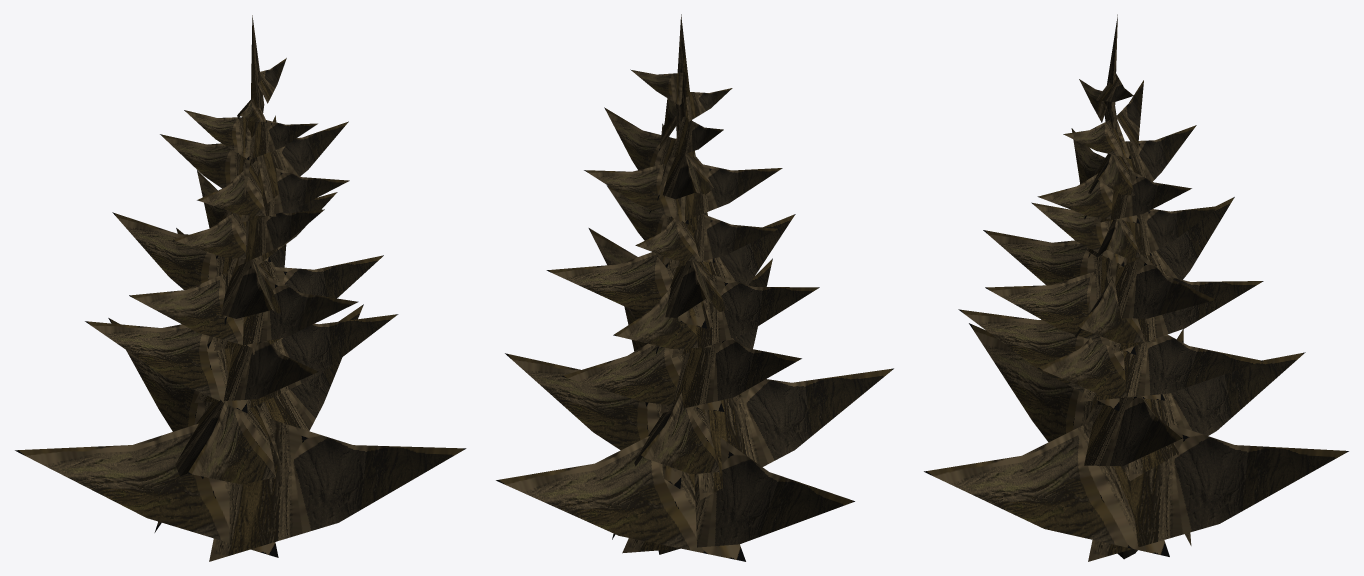
File: snow_snowy_pinetree.glb
3 renders of one model, left to right at view 1: azimuth 30°, elevation 25°; view 2: azimuth 150°, elevation 25°; view 3: azimuth 270°, elevation 25°, orthographic.
Visible parts, largest first — view 1: _MeshInstance3D_18; view 2: _MeshInstance3D_18; view 3: _MeshInstance3D_18.
Part boxes in pixels (x1,y1,x2,y2): _MeshInstance3D_18: (15, 15, 466, 561); _MeshInstance3D_18: (496, 14, 893, 561); _MeshInstance3D_18: (924, 14, 1348, 561).
Bounding box in the file's own units: 4.14 × 5.92 × 4.31.
Materials: 1 (1 with a texture image).
